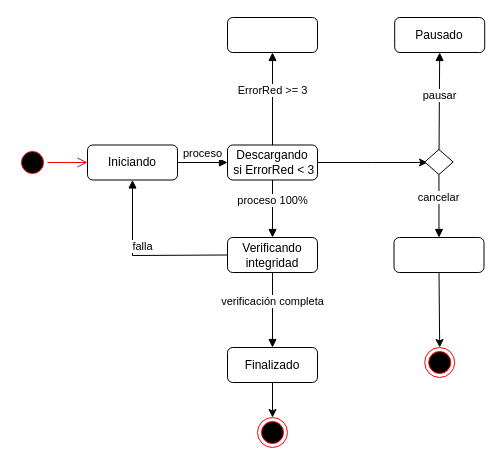
Some shapes in this 503 by 465 pixel diagram are drawn without their labels. The centre of each missing label's shape, as x and y in pixels:
"Cancelado" goes at point 438,254.
"Error Critico" goes at point 272,34.
